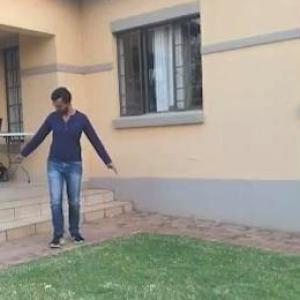land: (15, 86, 115, 245)
